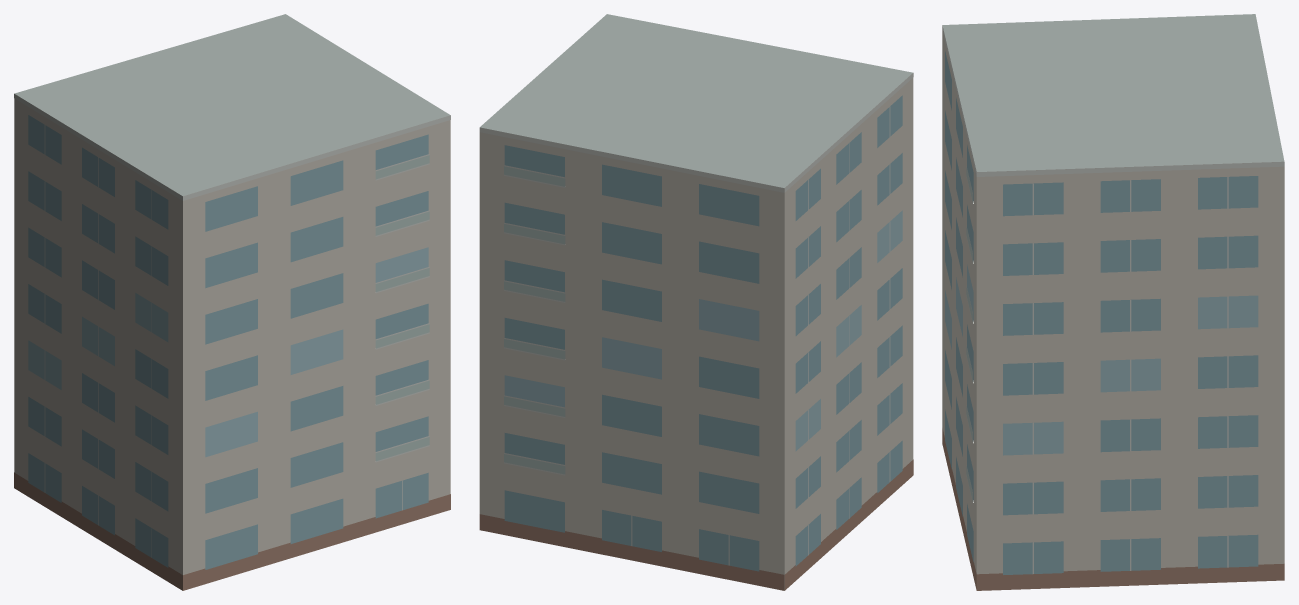
The model's file is survey-upis-32748720.glb.
3 views of the same model, side by side, from view 1: azimuth 30°, elevation 25°; view 2: azimuth 150°, elevation 25°; view 3: azimuth 270°, elevation 25° (orthographic). The views are drawn at different scales.
Visible parts, largest first — view 1: survey-upis-32748720.tmp; view 2: survey-upis-32748720.tmp; view 3: survey-upis-32748720.tmp.
Boxes of the visible parts, x1,y1,x2,y2 form: survey-upis-32748720.tmp: (14,14,450,590); survey-upis-32748720.tmp: (479,14,913,590); survey-upis-32748720.tmp: (942,14,1284,590).
Bounding box in the file's own units: 16.69 × 20.6 × 15.26.
